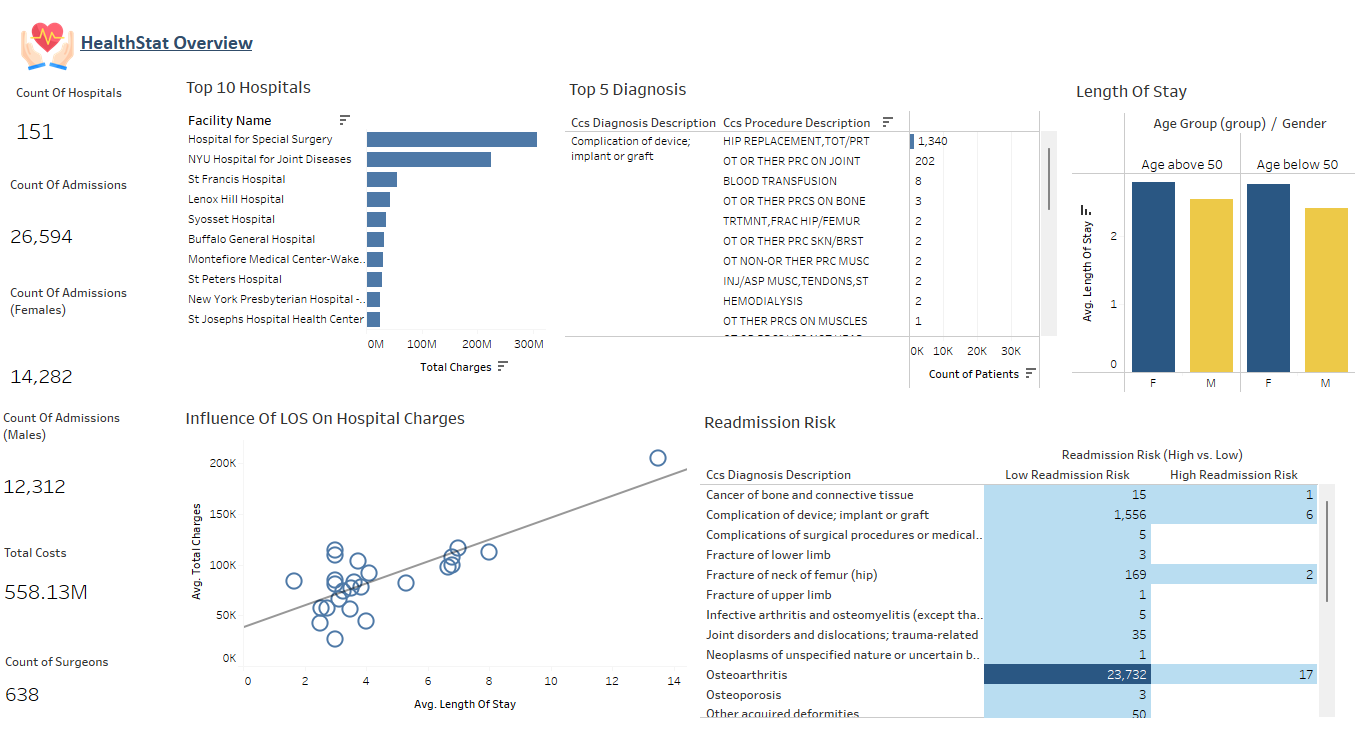

What the dashboard file says about the page in this screenshot:
{"tool":"tableau","page":{"name":"HealthStat Overview","canvas":[1000,1000],"units":"permille","ordinal":2},"visuals":[{"type":"image","box":[6.9,13.7,986.1,972.6]},{"type":"text","box":[57.1,13.7,376.6,89]},{"type":"image","param":"Image/health_18725220 1.png","box":[14.7,27.4,39.8,75.3]},{"type":"worksheet","title":"Top 10 Hospitals","mark":"Automatic","rows":["facility_name"],"cols":["total_charges"],"box":[133.3,99.3,266.7,434.9]},{"type":"worksheet","title":"Top 5 Diagnosis","mark":"Automatic","rows":["ccs_diagnosis_description","ccs_procedure_description"],"cols":["Sheet1_C67A10ED9EF44993A6169636F89EFF56"],"box":[413.9,101,360.2,426.4]},{"type":"worksheet","title":"Length Of Stay","mark":"Automatic","rows":["length_of_stay"],"cols":["gender"],"box":[784.4,104.5,207.8,429.8]},{"type":"worksheet","title":"Count Of Hospitals","mark":"Automatic","box":[8.7,109.6,101.3,119.9]},{"type":"worksheet","title":"Count Of Admissions","mark":"Automatic","box":[4.3,234.6,108.2,138.7]},{"type":"worksheet","title":"Count Of Admissions (Females)","mark":"Automatic","box":[4.3,380.1,106.5,149]},{"type":"worksheet","title":"Influence Of LOS On Hospital Charges","mark":"Automatic","rows":["total_charges"],"cols":["length_of_stay"],"box":[132.5,548,370.6,426.4]},{"type":"worksheet","title":"Readmission Risk","mark":"Square","rows":["ccs_diagnosis_description"],"cols":["Calculation_604326826716798978"],"box":[512.5,553.1,464.9,421.2]},{"type":"worksheet","title":"Total Cost","mark":"Automatic","box":[0,732.9,97,138.7]},{"type":"worksheet","title":"Count of Surgeons","mark":"Automatic","box":[0.9,880.1,103,116.4]}]}

Visuals, with their boxes on the dashboard's canvas, which has no fixed pixel size, in thousandths of its width and height (x1, y1, x2, y2). These are canvas units, not pixel positions in the 1357x730 screenshot, which may show the page scaled, cropped or inside an application window:
image: {"x1": 7, "y1": 14, "x2": 993, "y2": 986}
text: {"x1": 57, "y1": 14, "x2": 434, "y2": 103}
image: {"x1": 15, "y1": 27, "x2": 54, "y2": 103}
"Top 10 Hospitals" worksheet: {"x1": 133, "y1": 99, "x2": 400, "y2": 534}
"Top 5 Diagnosis" worksheet: {"x1": 414, "y1": 101, "x2": 774, "y2": 527}
"Length Of Stay" worksheet: {"x1": 784, "y1": 104, "x2": 992, "y2": 534}
"Count Of Hospitals" worksheet: {"x1": 9, "y1": 110, "x2": 110, "y2": 230}
"Count Of Admissions" worksheet: {"x1": 4, "y1": 235, "x2": 112, "y2": 373}
"Count Of Admissions (Females)" worksheet: {"x1": 4, "y1": 380, "x2": 111, "y2": 529}
"Influence Of LOS On Hospital Charges" worksheet: {"x1": 132, "y1": 548, "x2": 503, "y2": 974}
"Readmission Risk" worksheet (Square marks): {"x1": 512, "y1": 553, "x2": 977, "y2": 974}
"Total Cost" worksheet: {"x1": 0, "y1": 733, "x2": 97, "y2": 872}
"Count of Surgeons" worksheet: {"x1": 1, "y1": 880, "x2": 104, "y2": 996}
